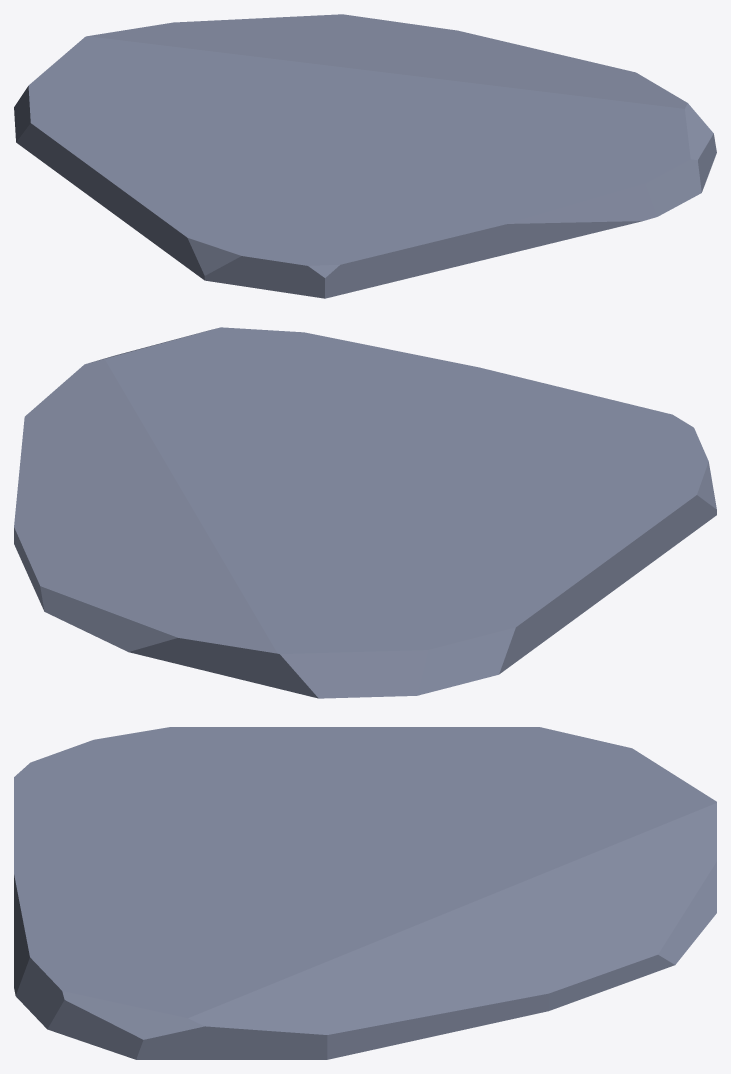
File: Stap_steen.fbx
The picture shows the model from 3 angles, top to bottom: view 1: azimuth 30°, elevation 25°; view 2: azimuth 150°, elevation 25°; view 3: azimuth 270°, elevation 25°; orthographic projection. The views are drawn at different scales.
Parts seen in each view (by area): view 1: Plane; view 2: Plane; view 3: Plane.
Part boxes in pixels (box(x1,y1,x2,y2)): Plane: box(14, 14, 716, 298); Plane: box(14, 327, 716, 698); Plane: box(14, 727, 716, 1059).
Bounding box in the file's own units: 200 × 11.21 × 200.
